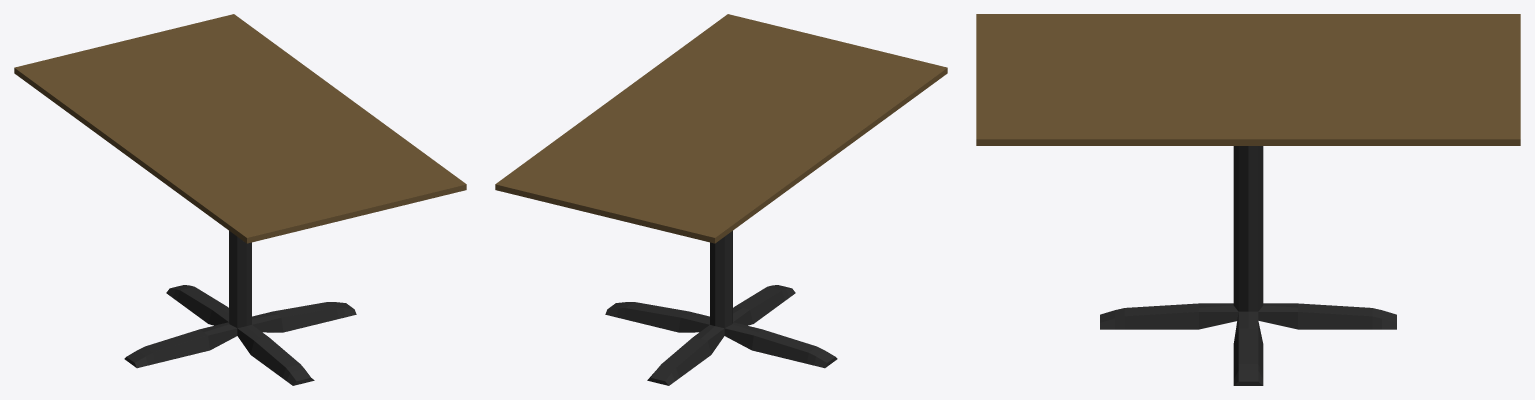
Rendered from table_high_rect_exportprep.gltf.
3 renders of one model, left to right at view 1: azimuth 30°, elevation 25°; view 2: azimuth 150°, elevation 25°; view 3: azimuth 270°, elevation 25°, orthographic. The views are drawn at different scales.
Visible parts, largest first — view 1: Cube; view 2: Cube; view 3: Cube.
Part boxes in pixels (bbox=[...]): Cube: bbox=[14, 14, 466, 385]; Cube: bbox=[495, 14, 947, 385]; Cube: bbox=[976, 14, 1520, 385].
Size of the model in its own units: 1.2 by 1.1 by 2.2.
